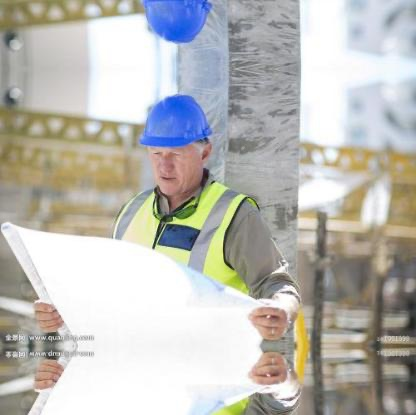Safety Helmet: (138, 86, 216, 206)
